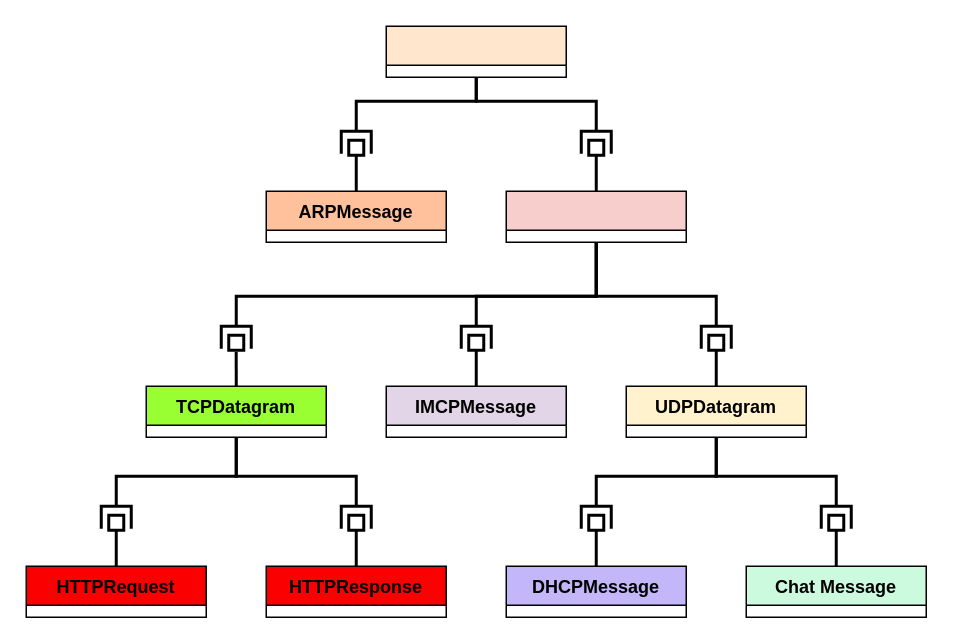
Some shapes in this 953 by 644 pixel diagram are drawn without their labels. The centre of each missing label's shape, as x and y in pixels:
"EthernetFrame" goes at pixel 475 51.
"IPPacket" goes at pixel 595 216.
